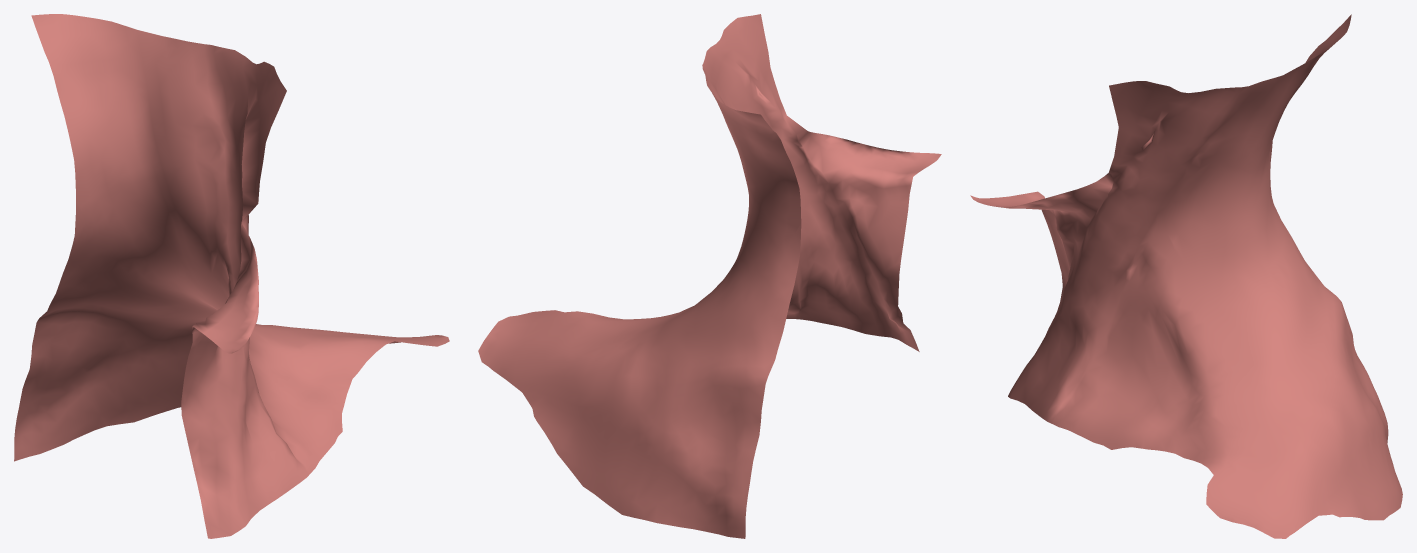
3 renders of one model, left to right at view 1: azimuth 30°, elevation 25°; view 2: azimuth 150°, elevation 25°; view 3: azimuth 270°, elevation 25°, orthographic. The views are drawn at different scales.
Visible parts, largest first — view 1: ZA_a977839783334c32; view 2: ZA_a977839783334c32; view 3: ZA_a977839783334c32.
Boxes of the visible parts, bbox=[...] form: ZA_a977839783334c32: bbox=[14, 14, 449, 538]; ZA_a977839783334c32: bbox=[478, 14, 941, 538]; ZA_a977839783334c32: bbox=[970, 14, 1402, 538].
Bounding box in the file's own units: 0.1762 × 0.2156 × 0.1938.
